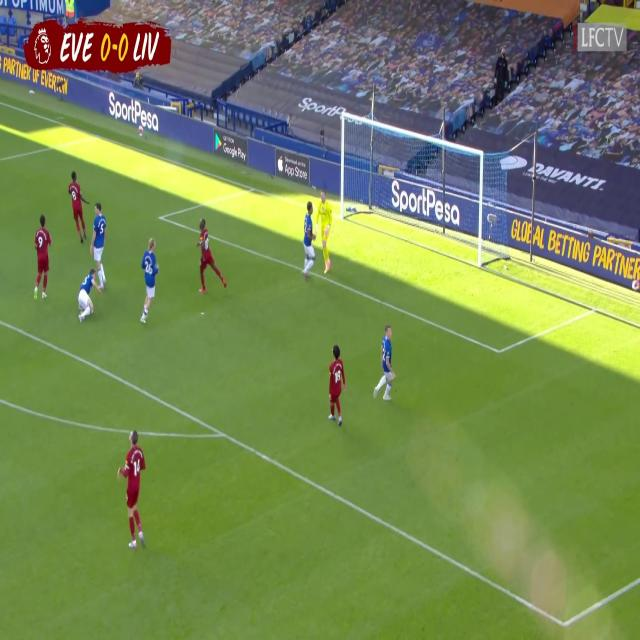GoalKeeper: (318, 186, 334, 284)
TEAM 1: (119, 431, 148, 552), (197, 220, 228, 292), (34, 218, 54, 302), (68, 173, 90, 246), (329, 347, 347, 426)
TEAM 2: (141, 238, 162, 327), (90, 204, 109, 293), (375, 328, 395, 404), (300, 200, 315, 282), (78, 267, 96, 331)
